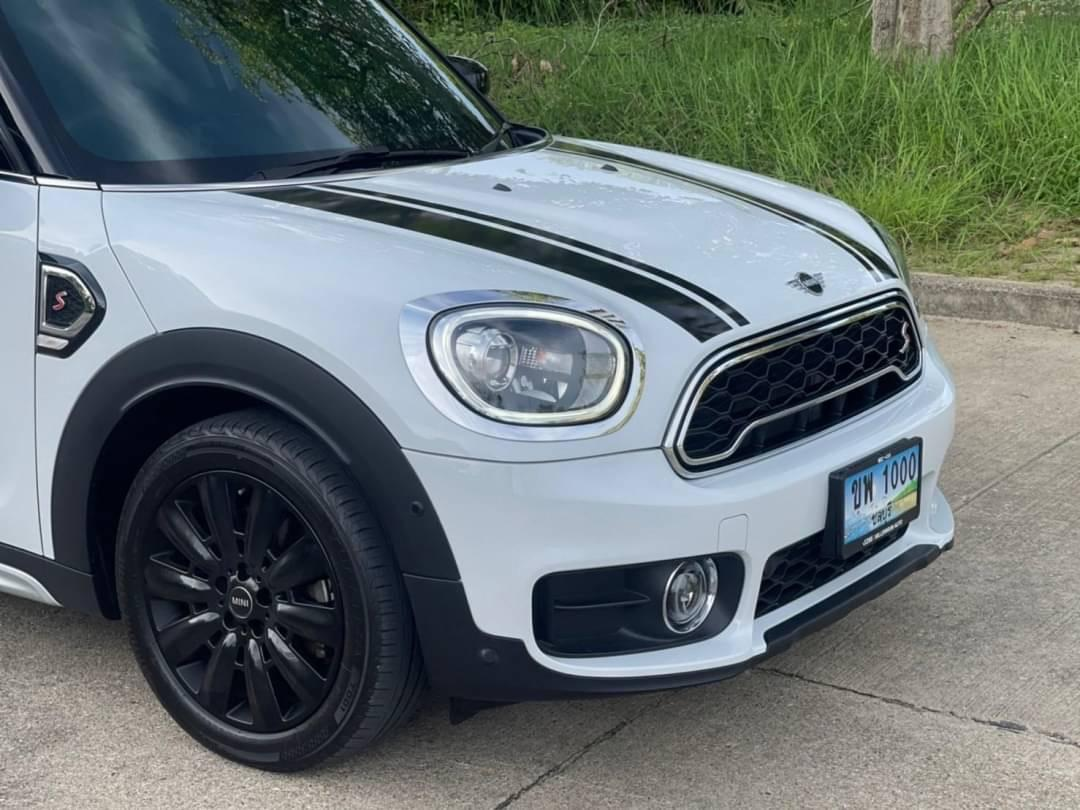license-plate: (825, 435, 928, 559)
